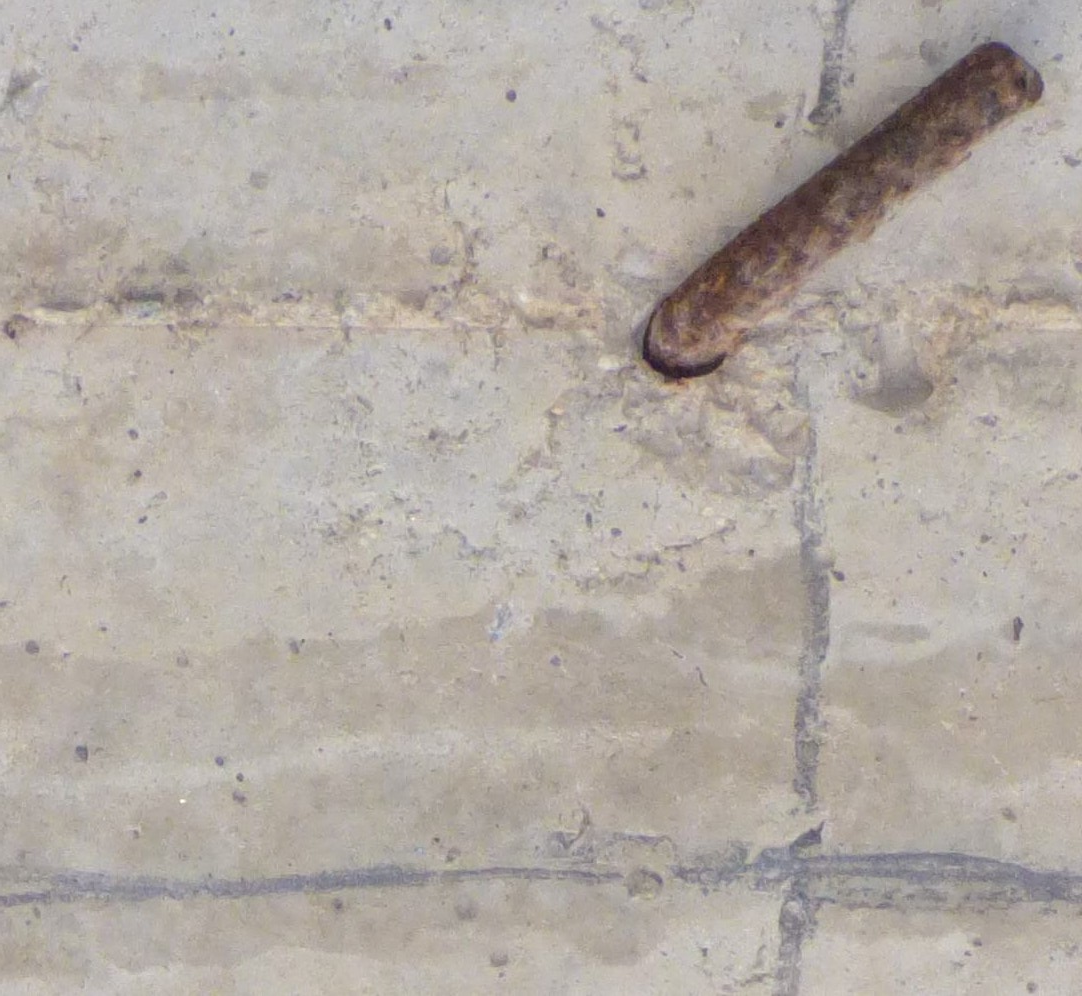Exposed reinforcement: (646, 41, 1046, 376)
